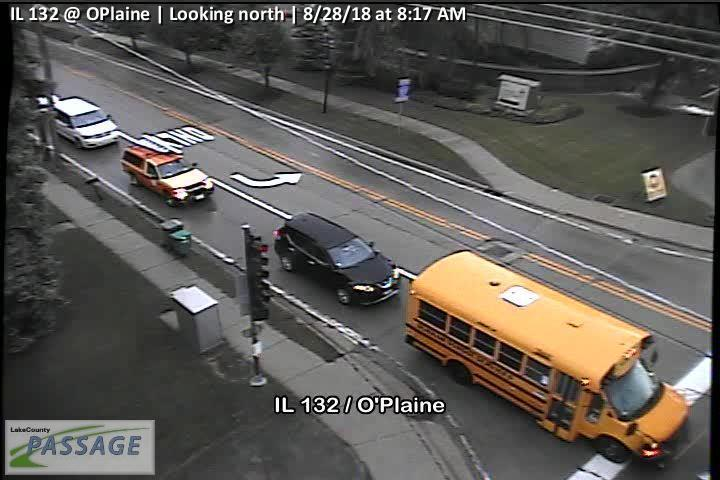Bus: (404, 249, 691, 466)
SUV: (273, 212, 401, 307), (122, 133, 216, 208), (48, 97, 120, 150)
